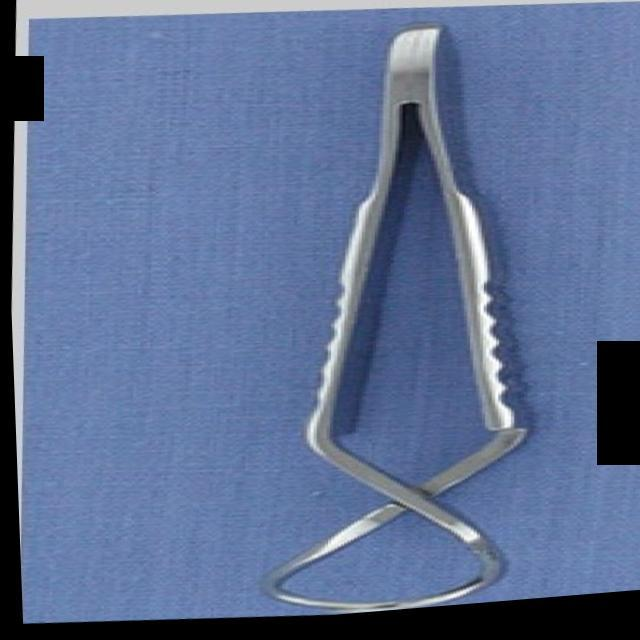Jones Towel Clamp: (215, 9, 576, 626)
